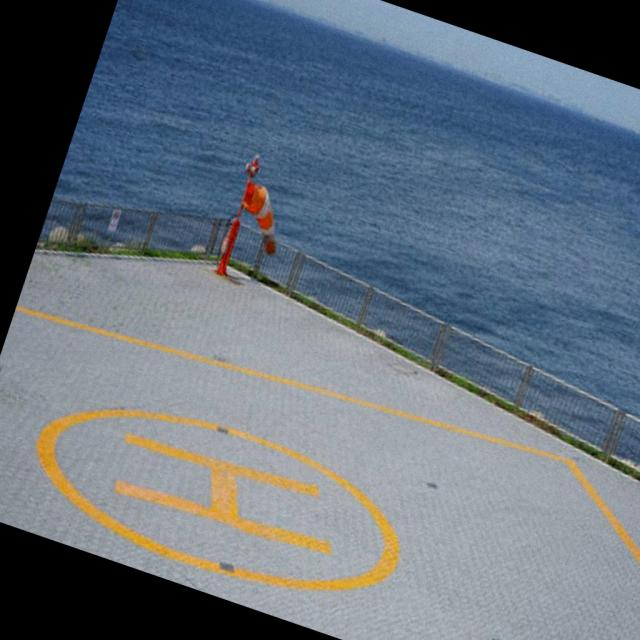helipad: (31, 403, 407, 594)
